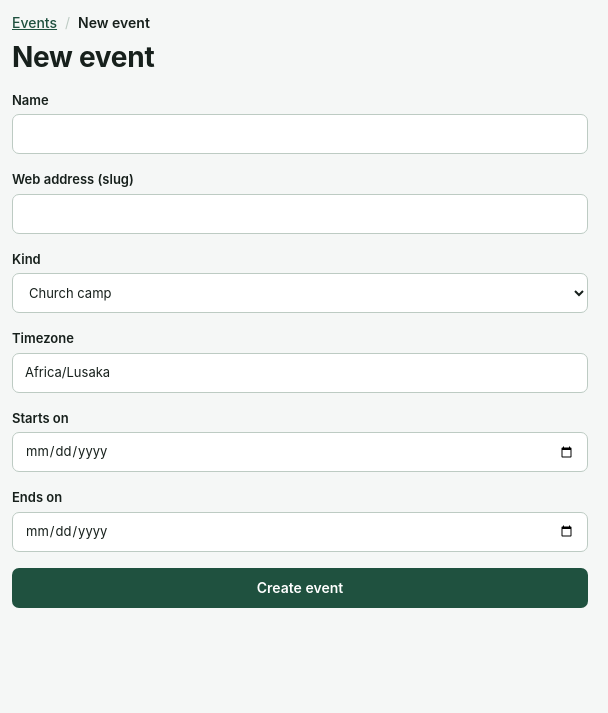
Test: EventCreatePage › shows the server's message when the slug is already taken
Type "Camp" into the field labelled "Name" at (300, 134), box [12,114,588,154]
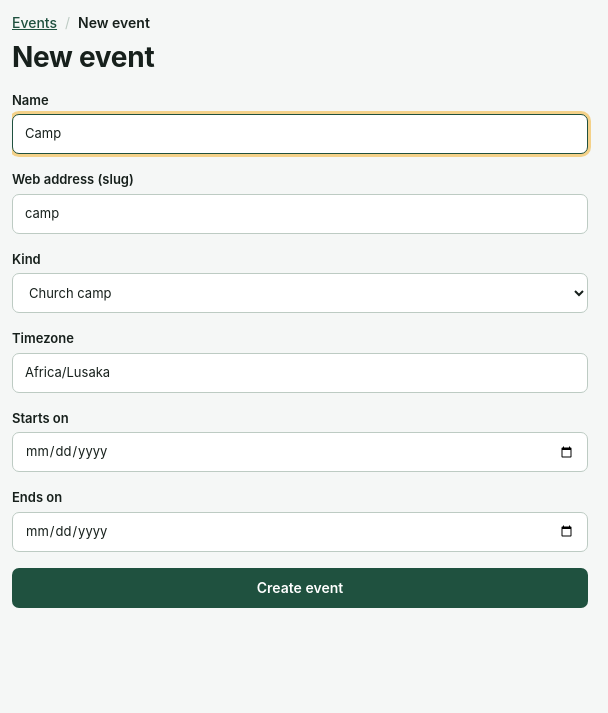
Type "2027-12-01" into the date field labelled "Starts on" at (300, 452), box [12,432,588,472]
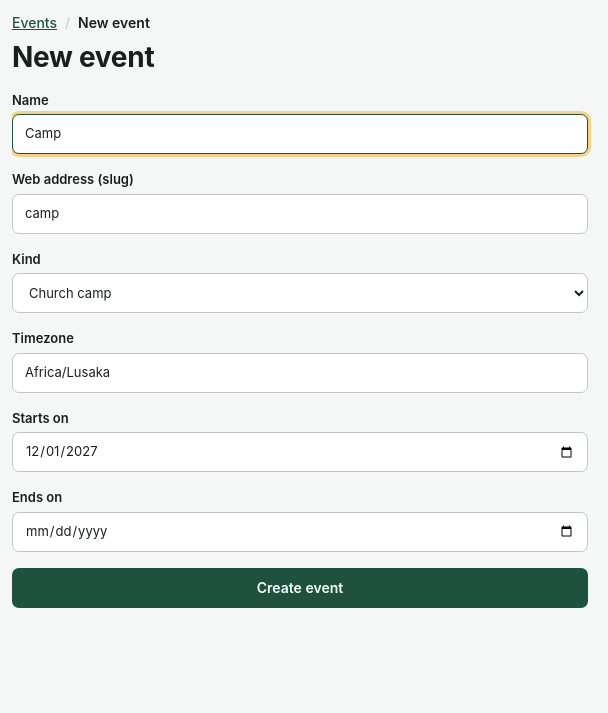
Type "2027-12-05" into the date field labelled "Ends on" at (300, 532), box [12,512,588,552]
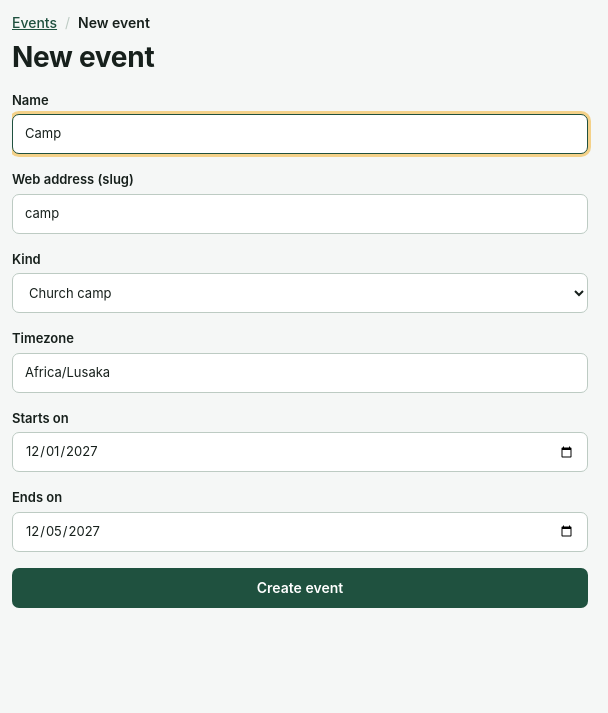
Click the button "Create event" at (300, 588), box [12,568,588,608]
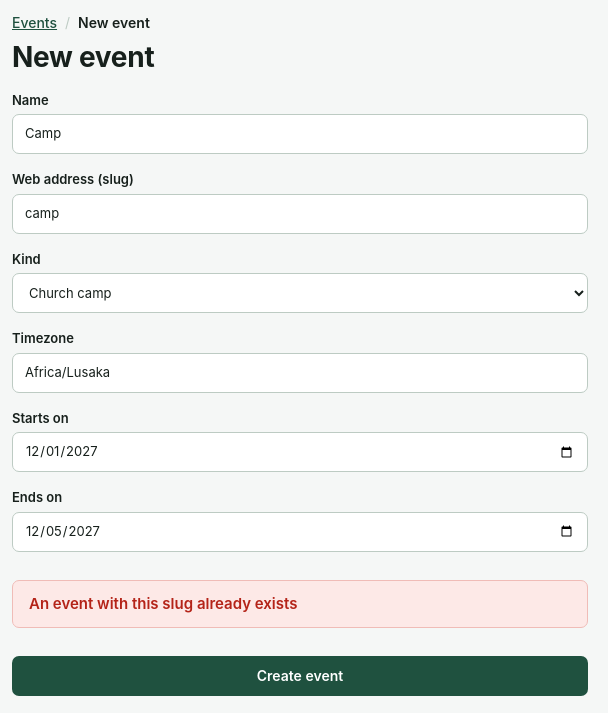
Result: the message reads "An event with this slug already exists" at [29,594,297,613]
